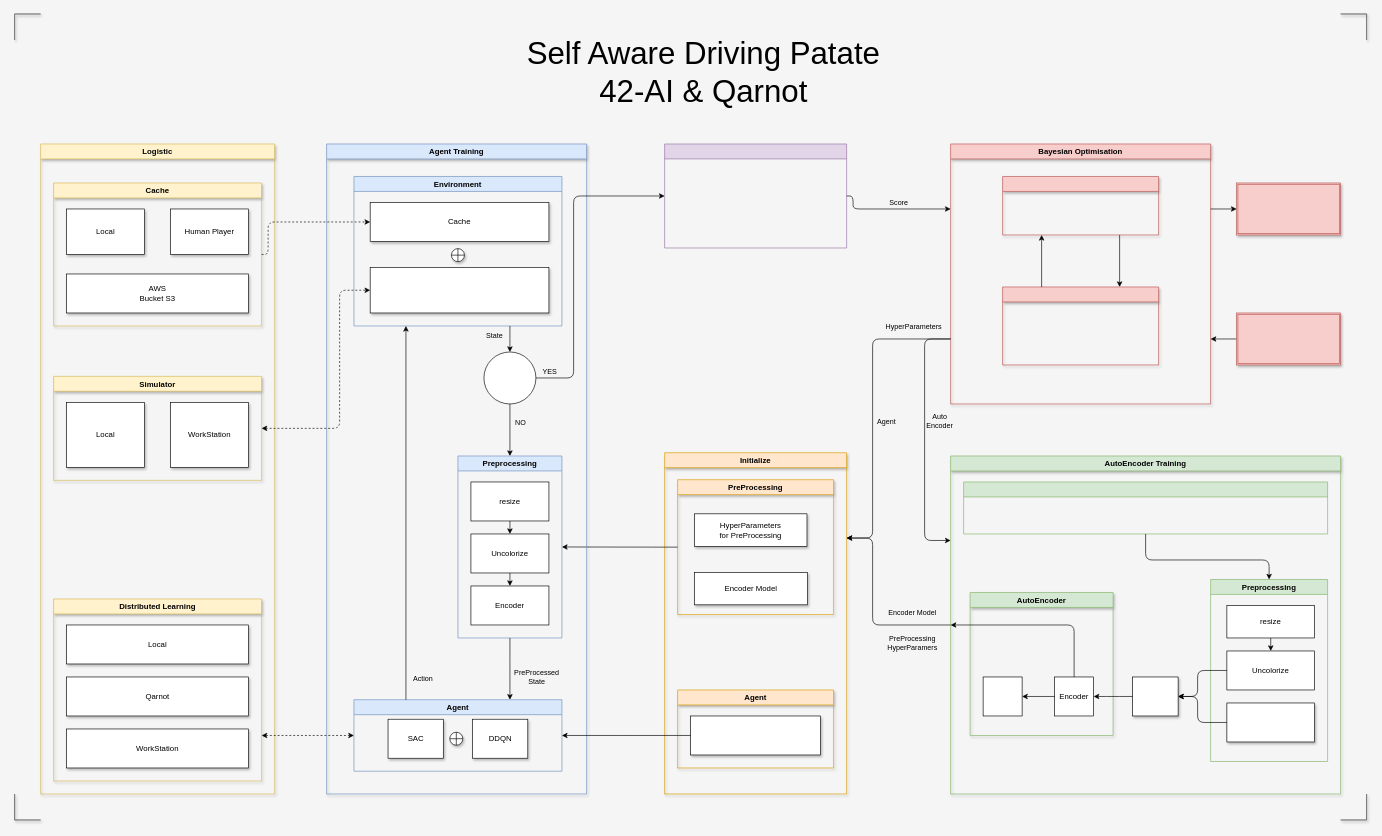
This 1382x836 diagram has some shape labels left out. Here are the shapes that lost their labels. From the top down, the centre of each, then its label:
At pixel 755 195: "Scoring".
At pixel 1081 206: "Acquisition function".
At pixel 1289 210: "Highest scoring Model".
At pixel 460 291: "GYM DonkeyCar".
At pixel 1081 327: "BFGS-B".
At pixel 1289 340: "Sets of HyperParameters".
At pixel 509 377: "Done ?".
At pixel 1145 507: "Environment Cache".
At pixel 1002 696: "Decoder".
At pixel 1155 697: "Data".
At pixel 756 736: "HyperParameters for Agent Training".
At pixel 1271 723: "Data Enrichment".
